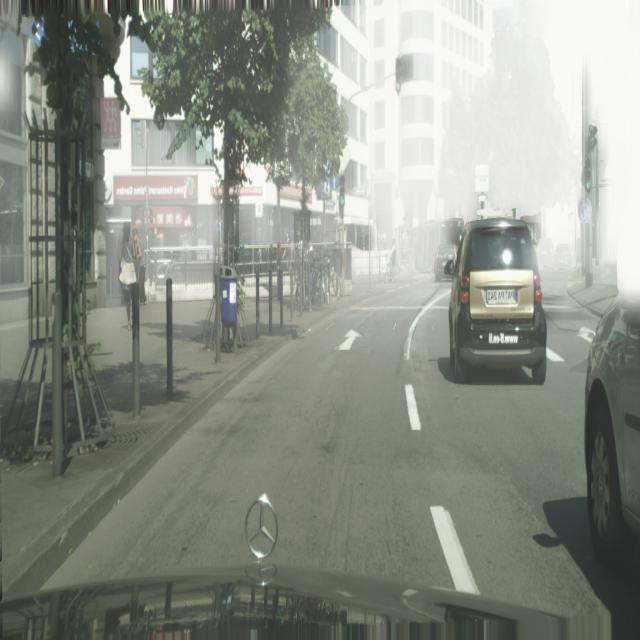motorcycle: (416, 218, 464, 272)
person: (118, 223, 140, 332), (132, 224, 145, 304), (390, 240, 397, 281)
truck: (583, 229, 640, 567), (448, 216, 548, 385), (434, 244, 458, 281), (553, 244, 573, 271), (538, 237, 553, 268)
